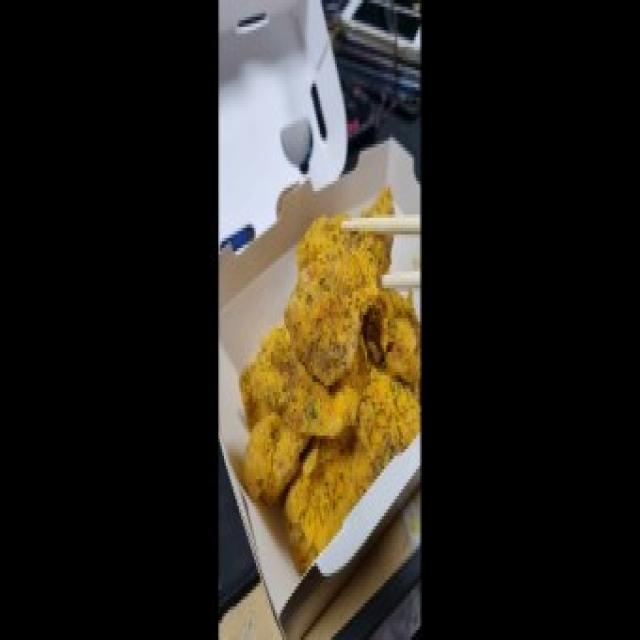Frango: (239, 208, 420, 561)
